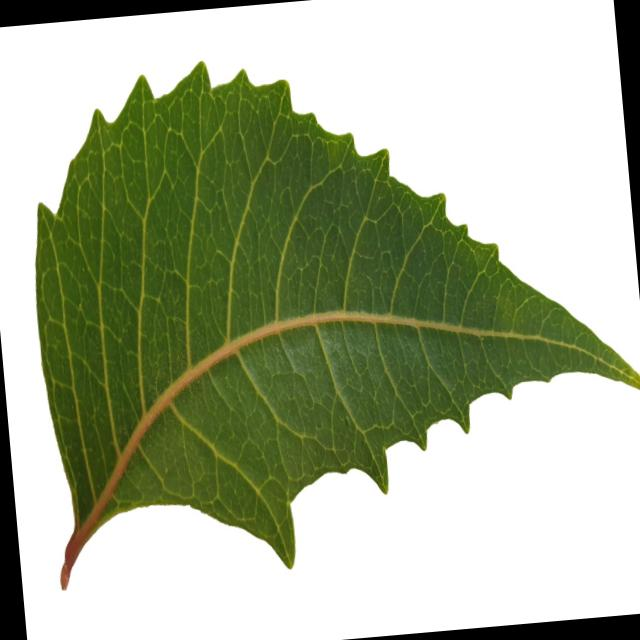Medicinal-Neem: (7, 18, 640, 613)
